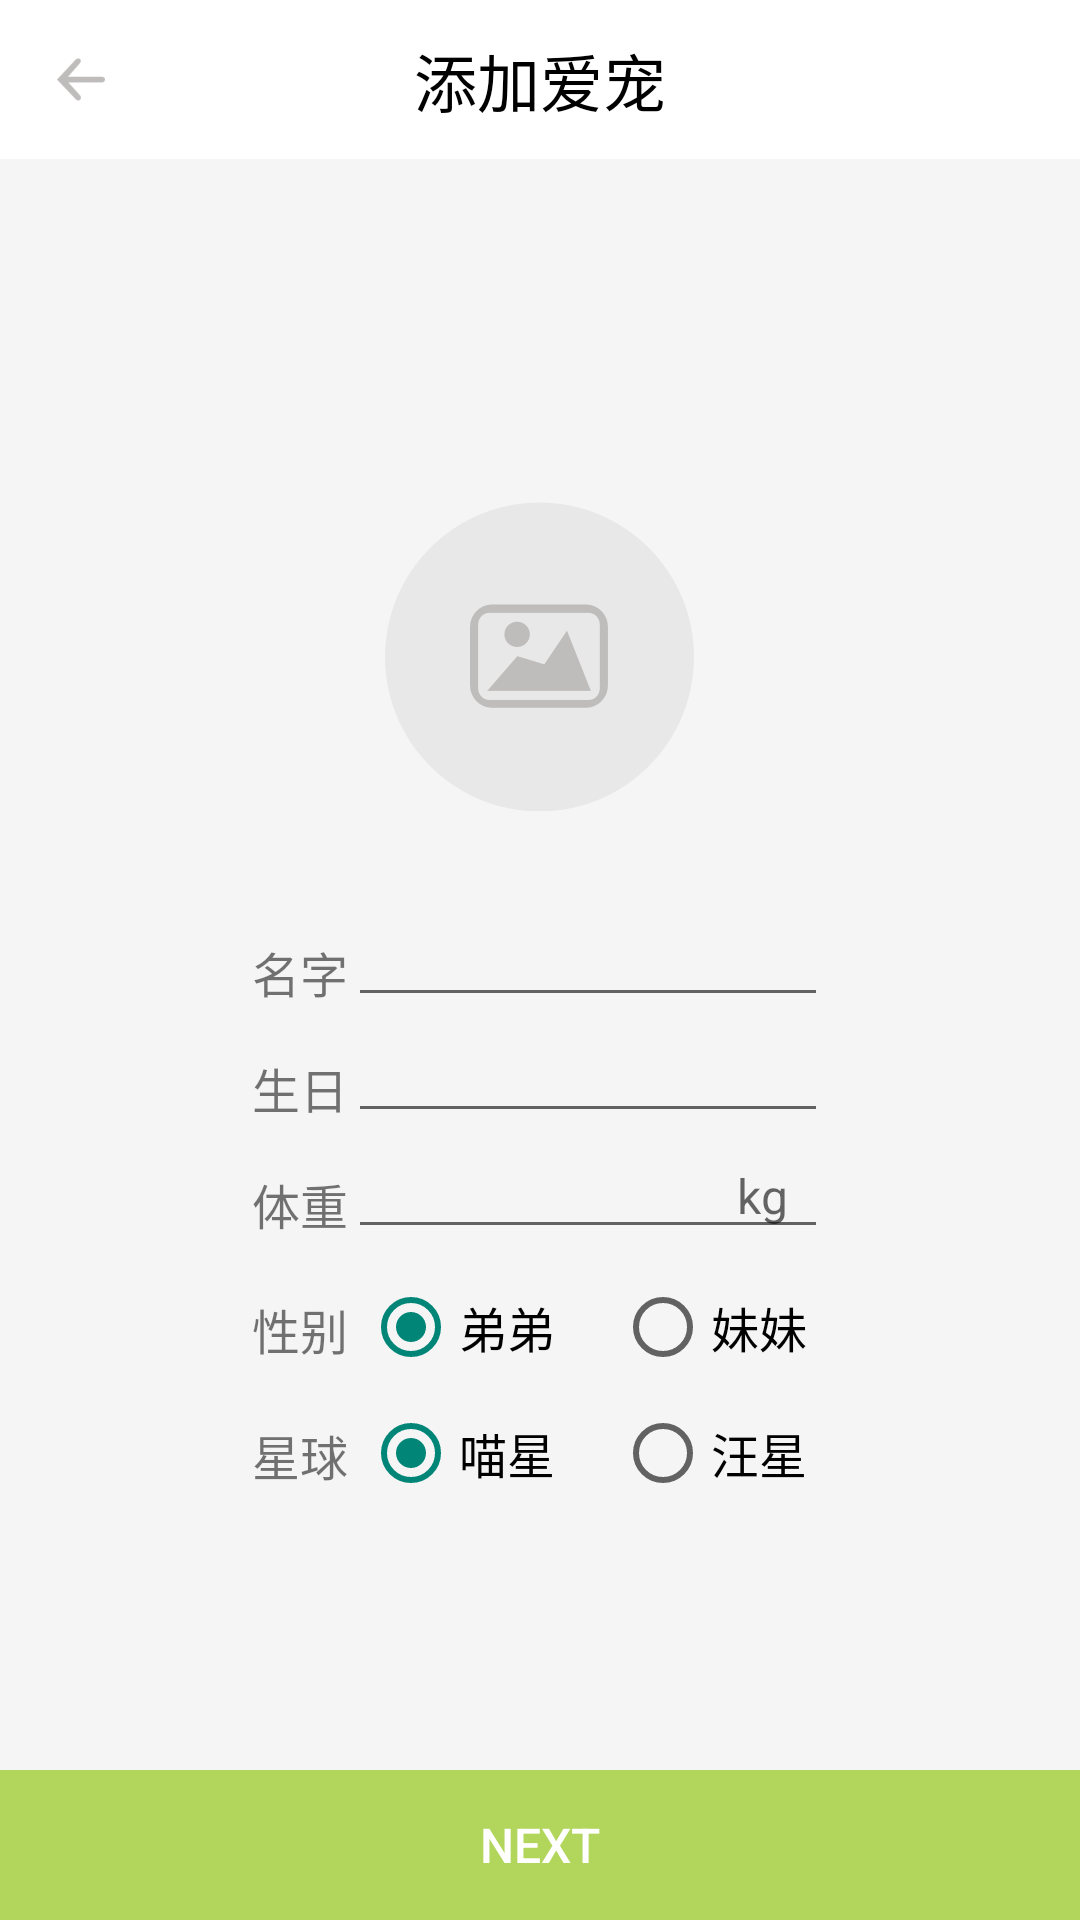

Where to tap for icons on this 1080×1920 app screen, as [x,y]:
back: [81,79]
